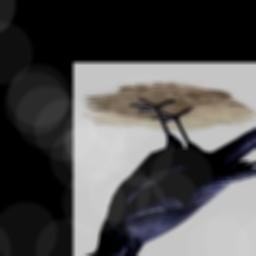Crow: (77, 95, 256, 256)
